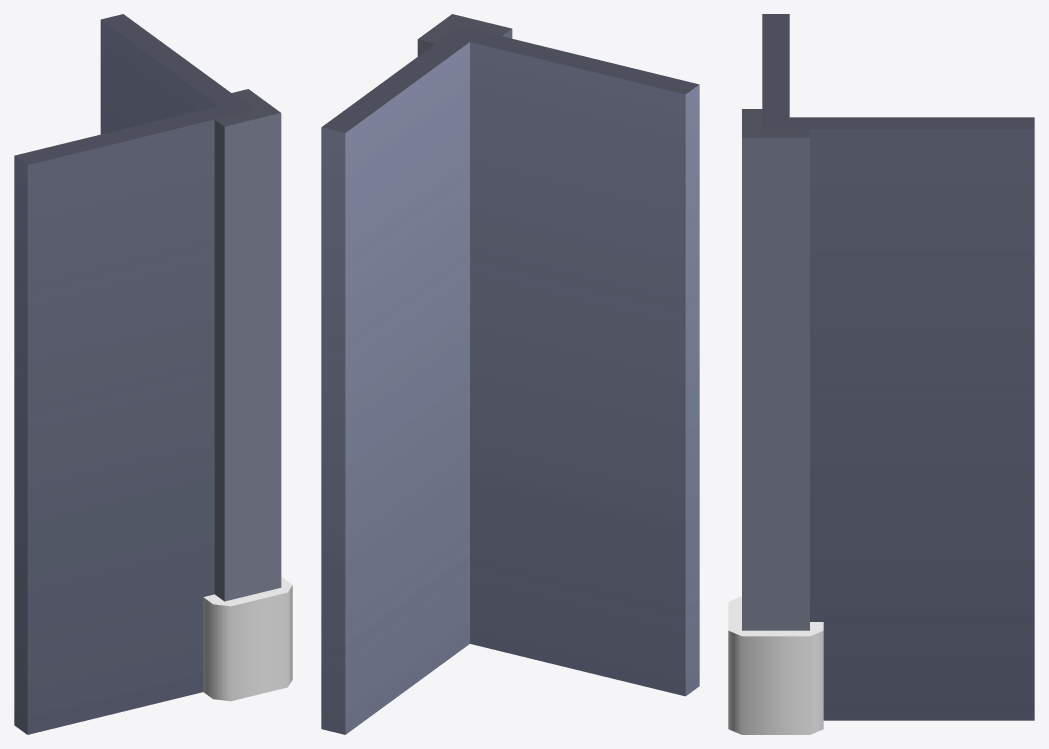
The model's file is building_wall_corner_column_s_gbiijlhg1l.glb.
3 renders of one model, left to right at view 1: azimuth 30°, elevation 25°; view 2: azimuth 150°, elevation 25°; view 3: azimuth 270°, elevation 25°, orthographic. The views are drawn at different scales.
Parts seen in each view (by area): view 1: wall-corner-column-small-bottom; view 2: wall-corner-column-small-bottom; view 3: wall-corner-column-small-bottom.
Boxes of the visible parts, x1,y1,x2,y2 form: wall-corner-column-small-bottom: [14, 14, 292, 734]; wall-corner-column-small-bottom: [321, 14, 699, 734]; wall-corner-column-small-bottom: [728, 14, 1034, 734].
Bounding box in the file's own units: 1.12 × 2.4 × 1.13.
1 material, 1 textured.
